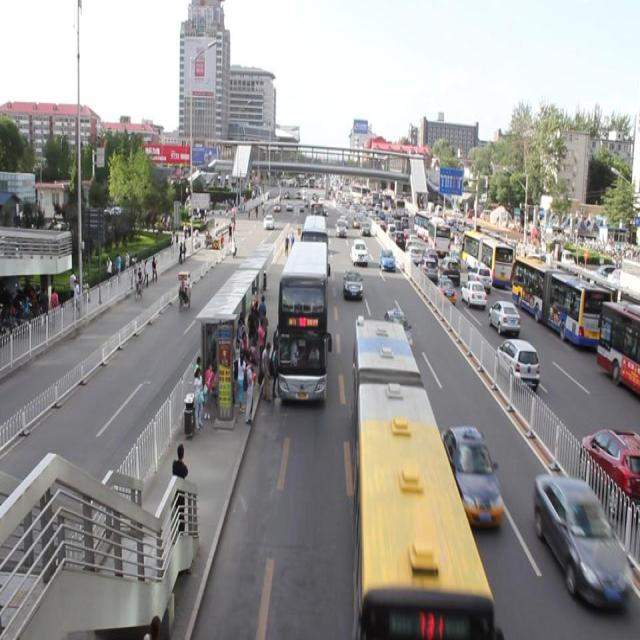car: (533, 477, 624, 602), (438, 423, 501, 528), (342, 268, 362, 299), (350, 239, 368, 266), (378, 246, 394, 270), (334, 218, 346, 236), (360, 222, 370, 235), (351, 215, 359, 228)
van: (346, 317, 499, 632), (276, 236, 327, 400), (301, 214, 326, 283)
